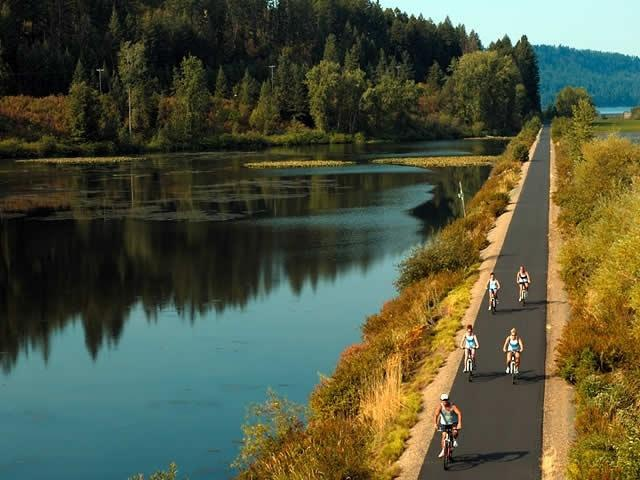non-vehicle: (437, 427, 456, 469), (505, 349, 520, 385), (463, 347, 476, 381), (487, 287, 496, 313), (519, 281, 528, 306)
